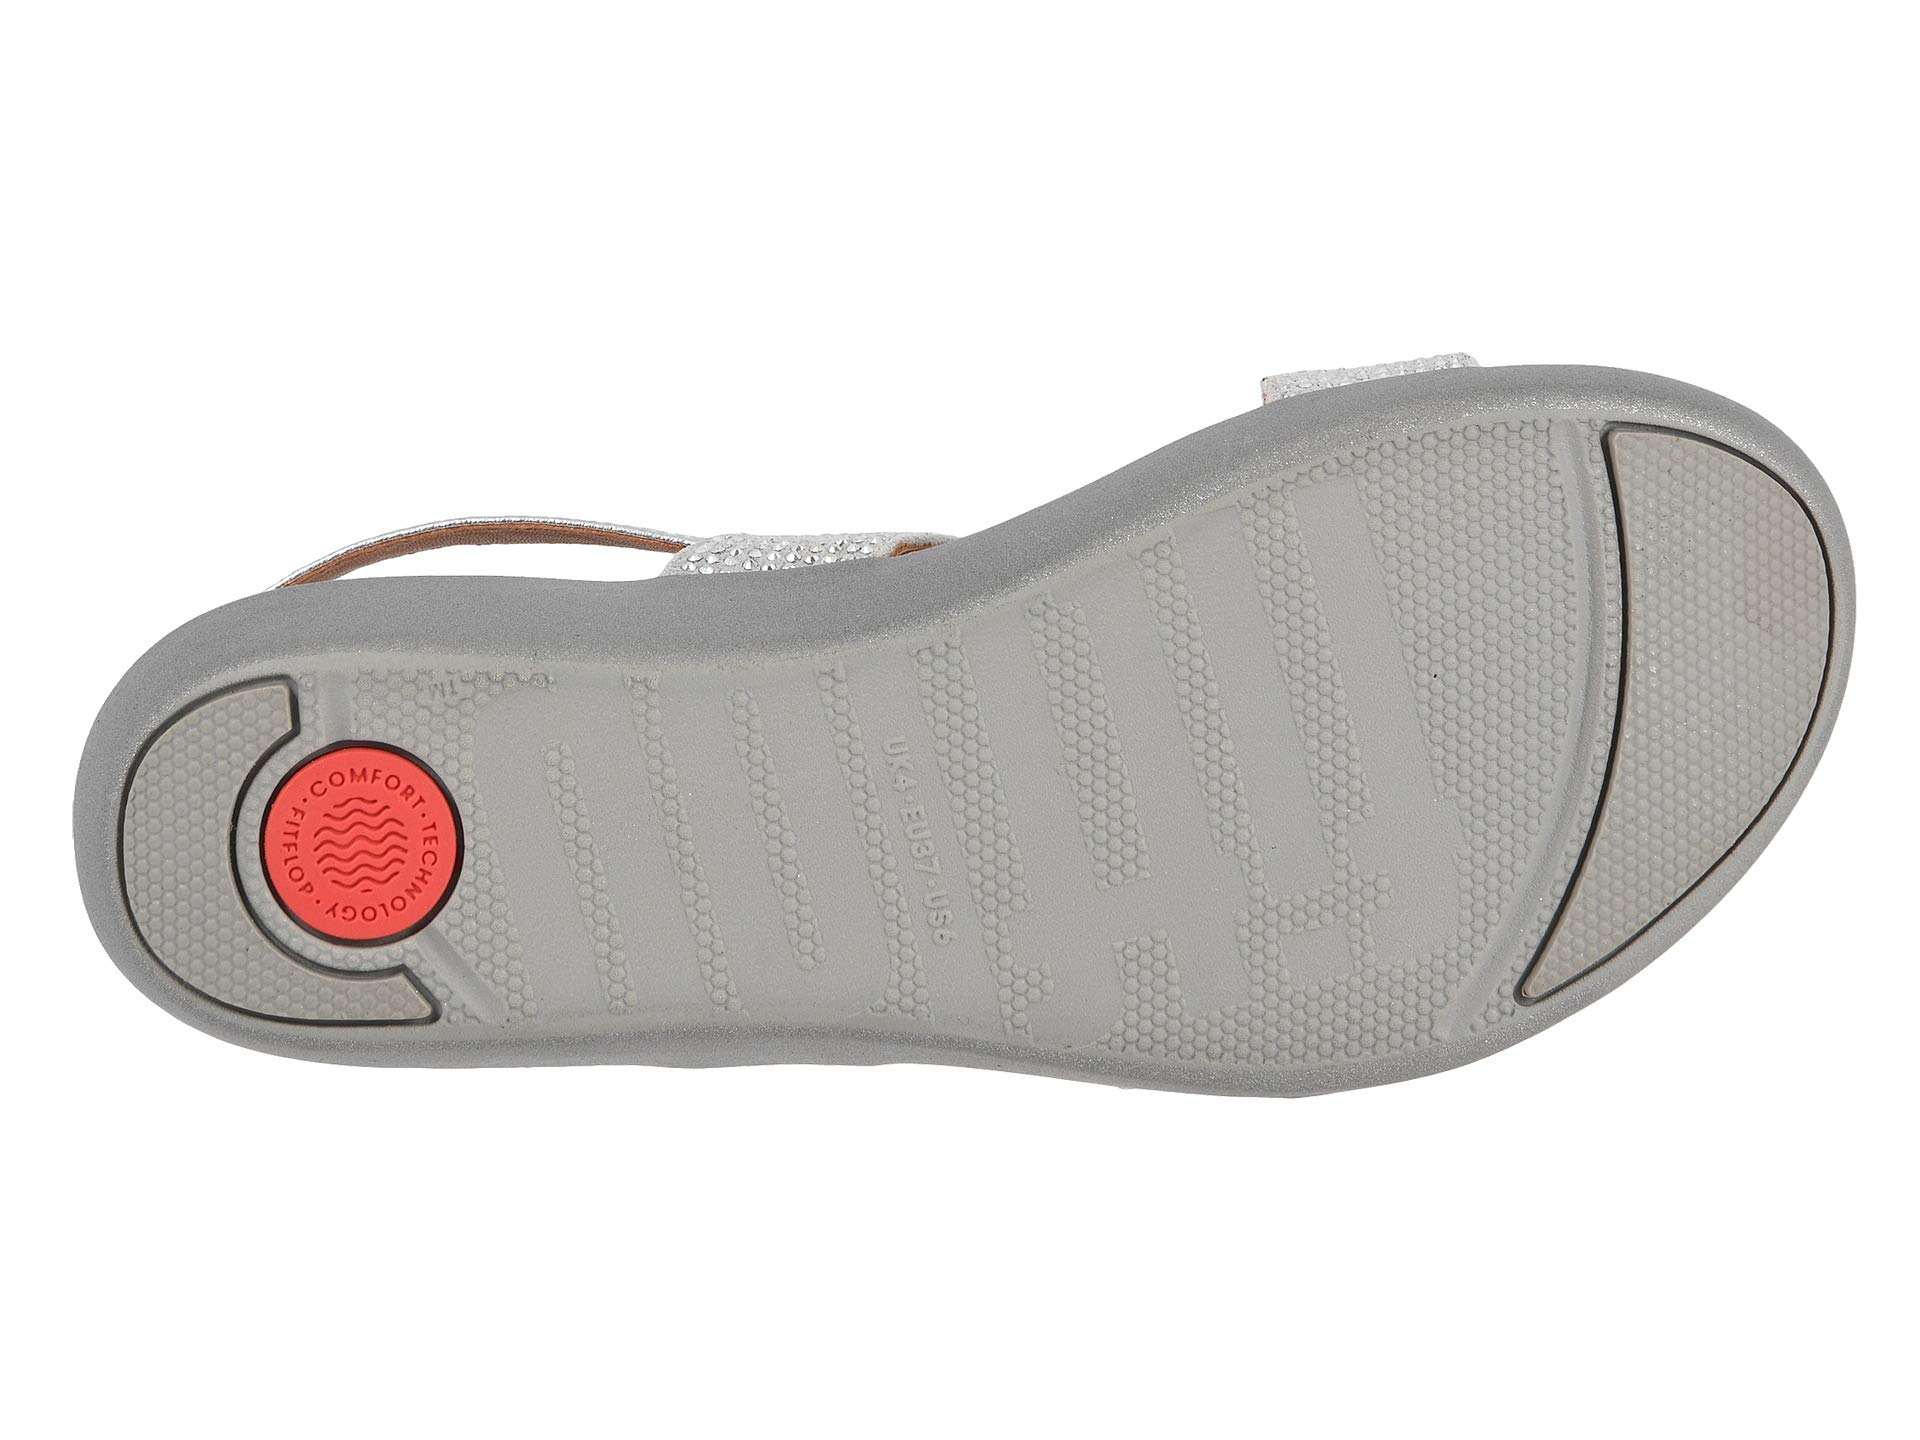chevron: (221, 700, 490, 985)
circle: (221, 700, 490, 985)
text: (221, 700, 490, 985)
